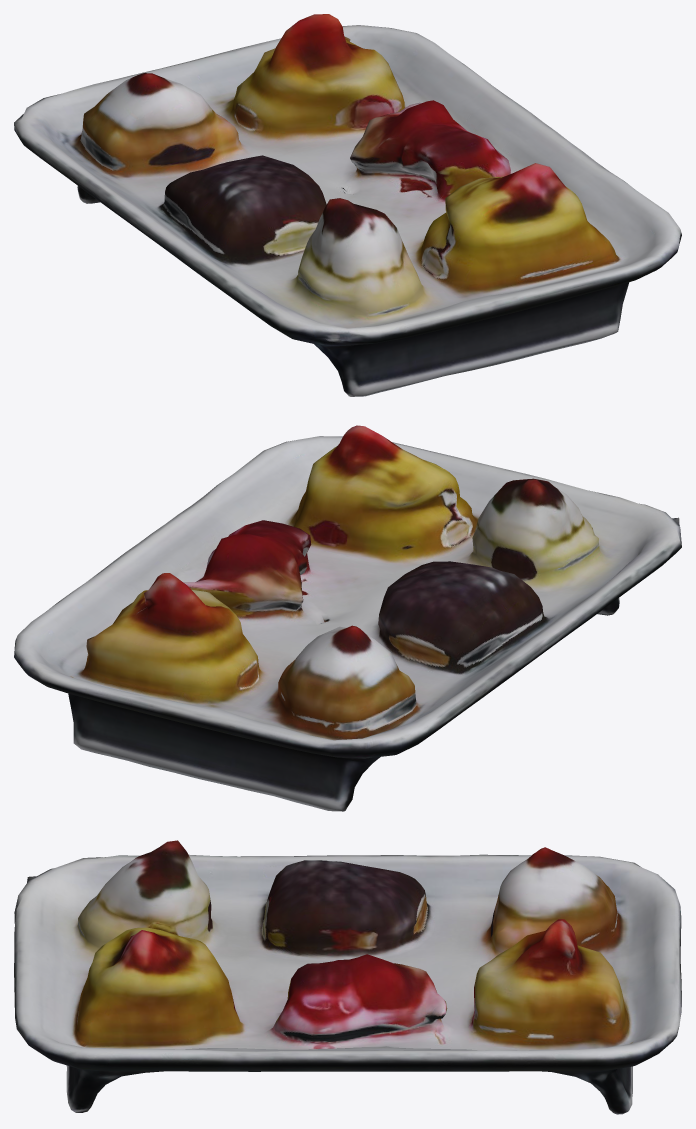
File: BandejaCaer.obj
3 renders of one model, top to bottom at view 1: azimuth 30°, elevation 25°; view 2: azimuth 150°, elevation 25°; view 3: azimuth 270°, elevation 25°, orthographic.
Parts seen in each view (by area): view 1: BandejaCaer:Mesh; view 2: BandejaCaer:Mesh; view 3: BandejaCaer:Mesh.
Boxes of the visible parts, x1,y1,x2,y2 form: BandejaCaer:Mesh: [14, 14, 681, 396]; BandejaCaer:Mesh: [14, 425, 681, 811]; BandejaCaer:Mesh: [14, 840, 681, 1114].
Size of the model in its own units: 2.2 by 0.834 by 3.06.
Materials: 1 (1 with a texture image).
